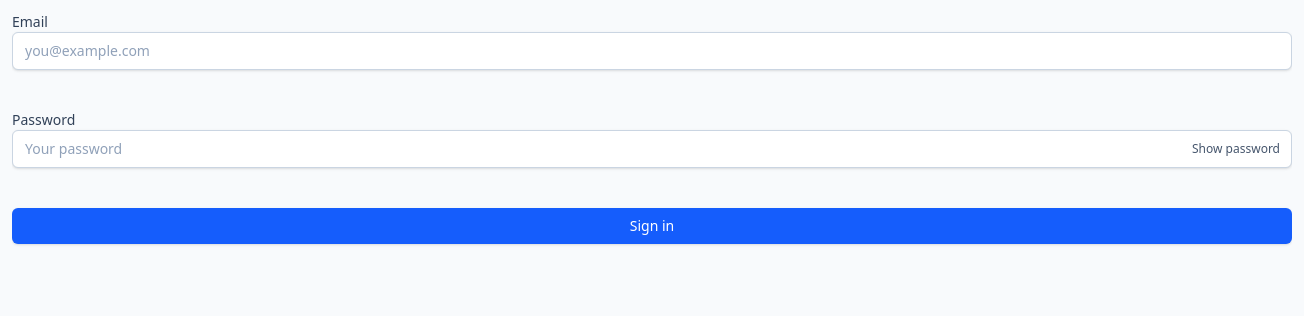
Test case: LoginForm › error handling › resolves backend i18n key when message starts with auth.
In the field labelled "Email": x=652, y=51 [12, 32, 1292, 70], type "valid@example.com"
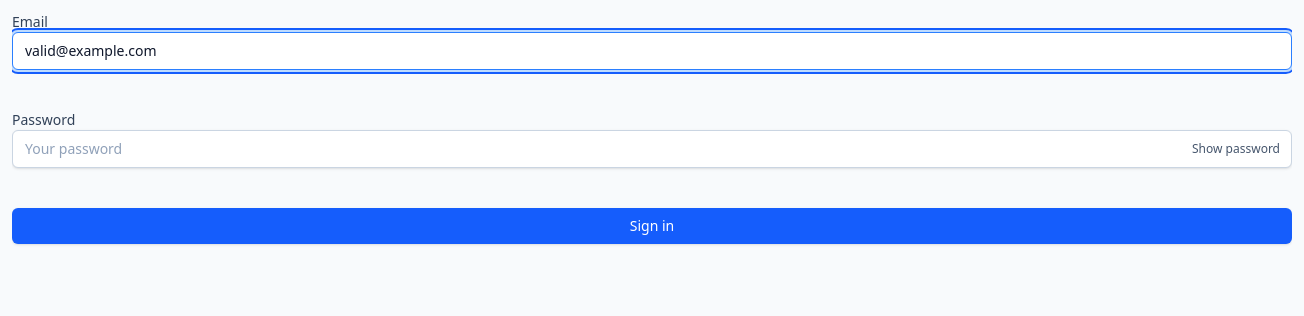
In the password field labelled "Password": x=652, y=149 [12, 130, 1292, 168], type "password123"
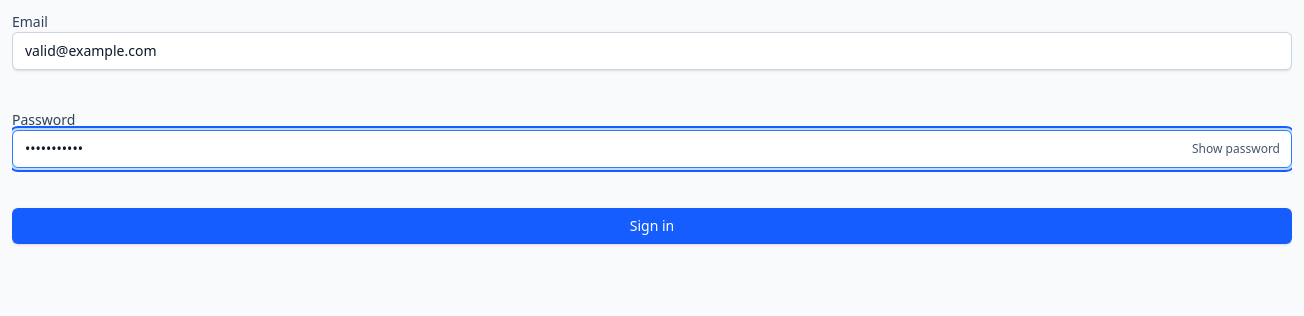
Click the button "Sign in": x=652, y=226 [12, 208, 1292, 244]
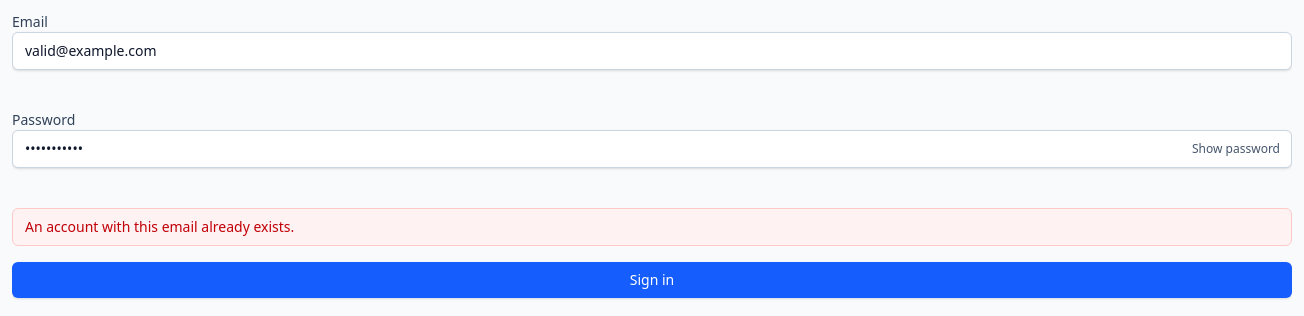
Now the text "An account with this email already exists." is shown, box [12, 208, 1292, 246]
